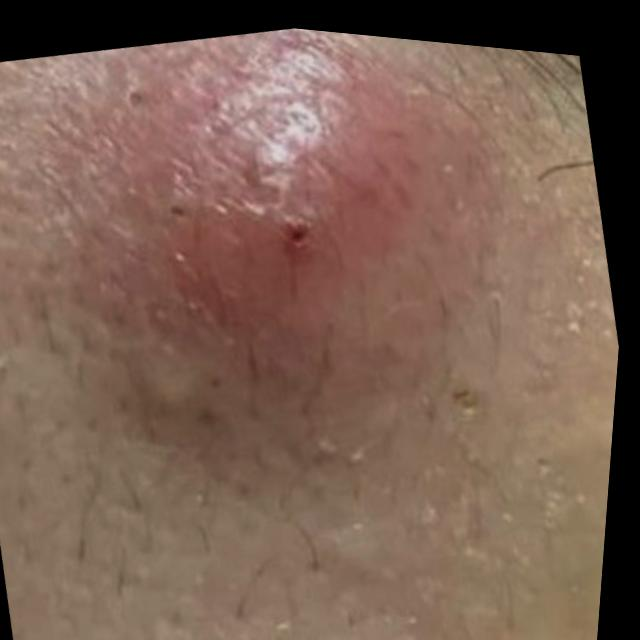nodule: (51, 23, 508, 409)
